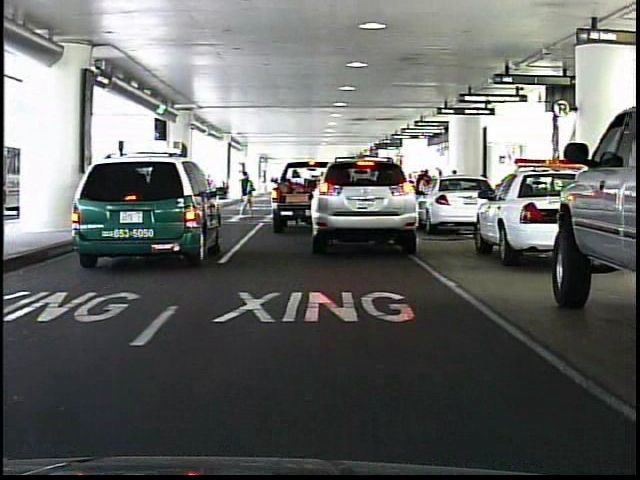person: (237, 168, 261, 223)
